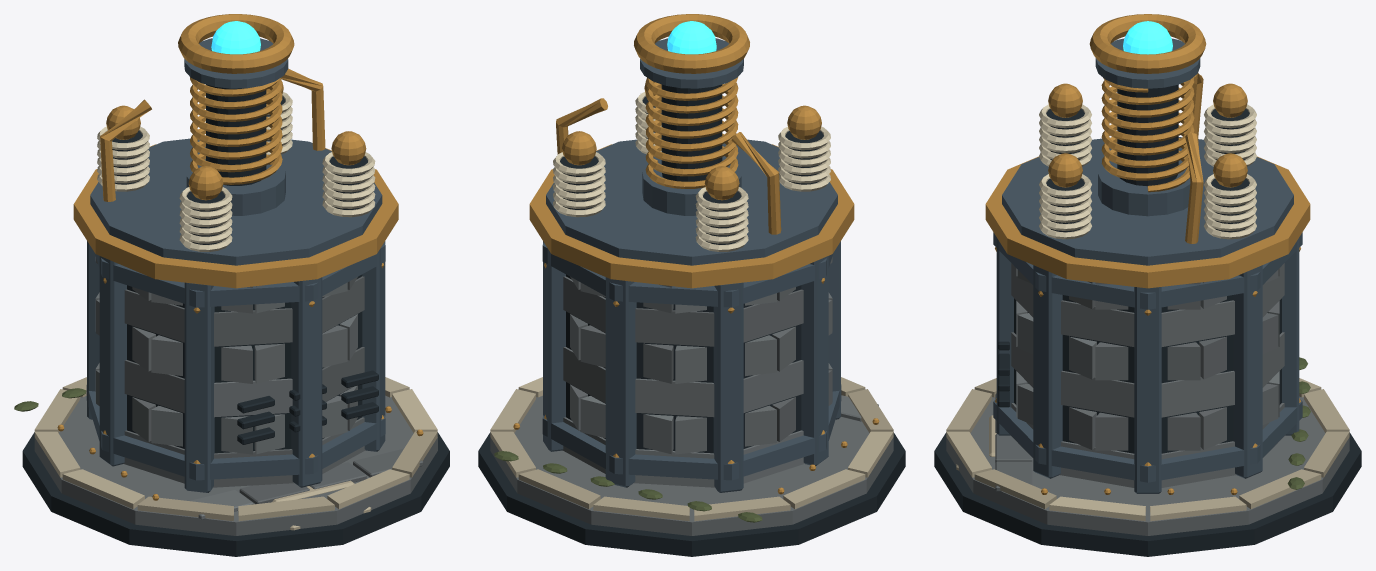
The model's file is lightning__corrente__L10.glb.
The picture shows the model from 3 angles, left to right: view 1: azimuth 30°, elevation 25°; view 2: azimuth 150°, elevation 25°; view 3: azimuth 270°, elevation 25°; orthographic projection.
Visible parts, largest first — view 1: structure, weapon; view 2: structure, weapon; view 3: structure, weapon.
Boxes of the visible parts, x1,y1,x2,y2 form: structure: (14, 68, 449, 556); weapon: (178, 14, 294, 215); structure: (478, 81, 905, 556); weapon: (634, 14, 749, 215); structure: (934, 73, 1361, 556); weapon: (1089, 14, 1206, 216).
Bounding box in the file's own units: 0.8624 × 0.9878 × 0.8624.
